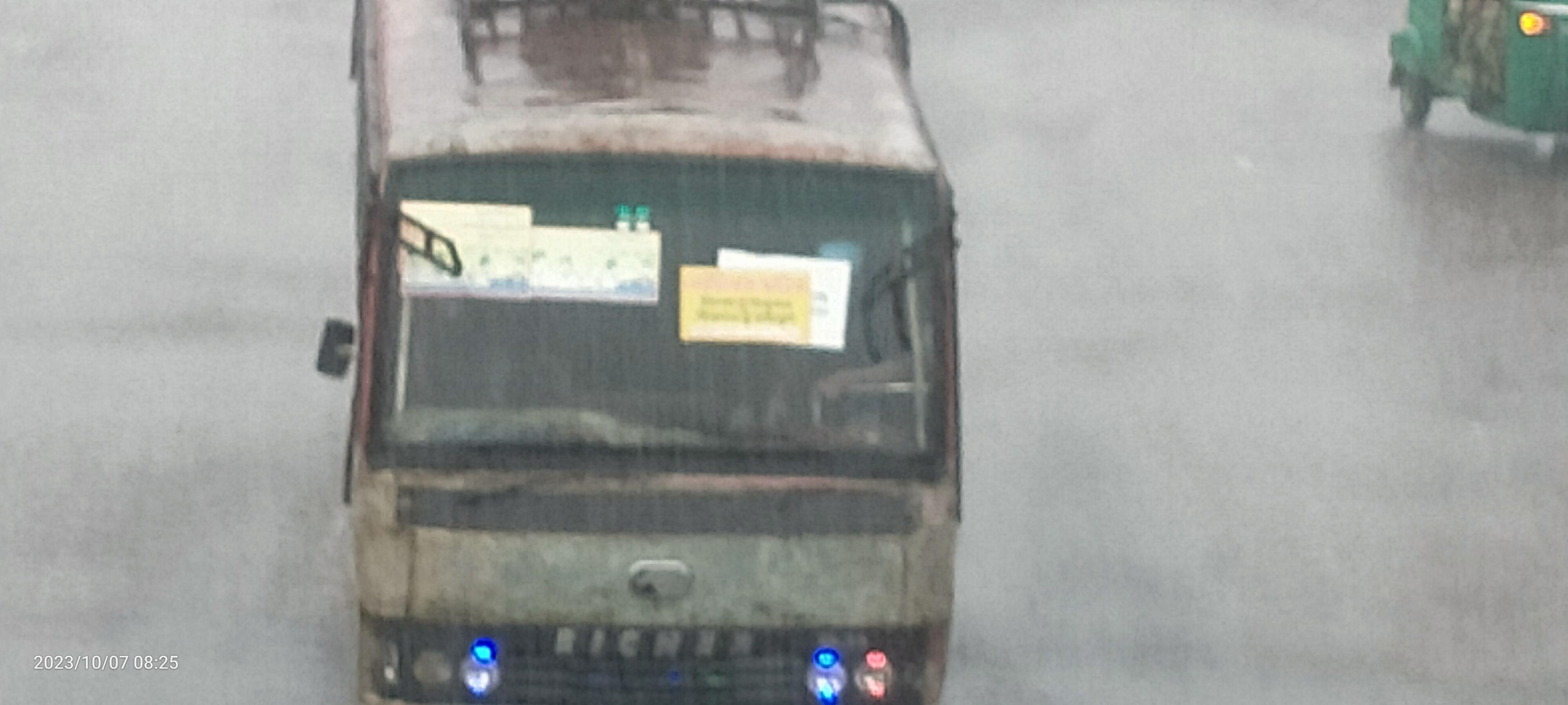Bus: (220, 8, 1018, 705)
